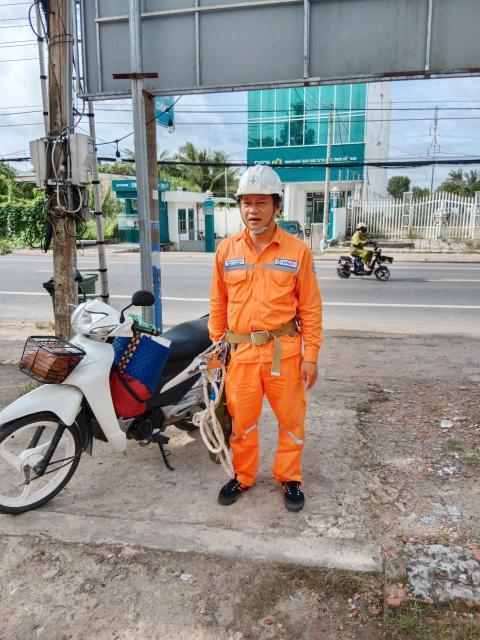harness: (210, 317, 313, 353)
helmet: (225, 158, 290, 207)
shoes: (271, 464, 312, 520), (210, 473, 259, 514)
